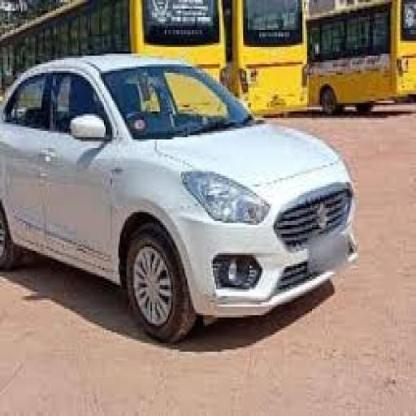car: (0, 45, 365, 350)
